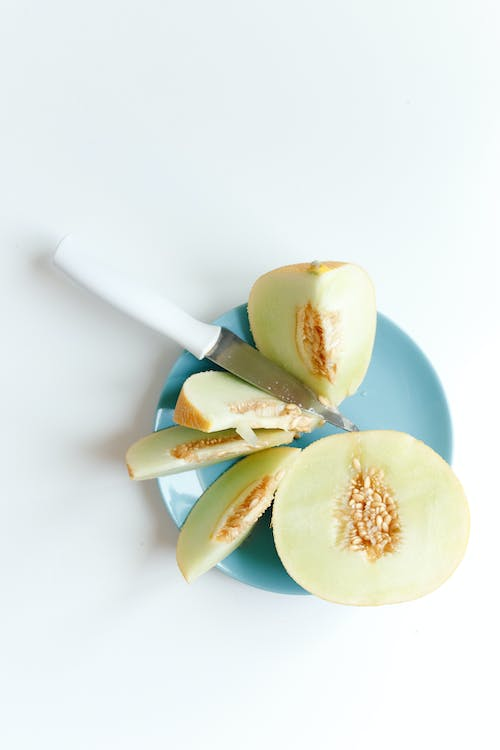knife: (47, 229, 359, 433)
